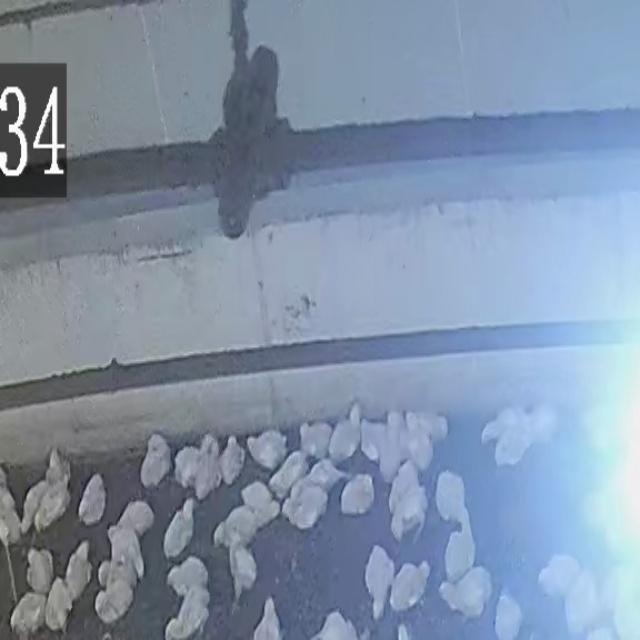chicken: (437, 564, 492, 620), (216, 503, 270, 552), (361, 543, 395, 620), (562, 567, 600, 633), (164, 587, 212, 639), (388, 558, 430, 614), (282, 483, 331, 531), (390, 486, 429, 544), (383, 411, 414, 482), (434, 470, 470, 531), (226, 538, 261, 600), (537, 552, 582, 599), (238, 479, 280, 529), (163, 499, 199, 556), (140, 432, 174, 491), (245, 428, 289, 472), (268, 451, 310, 497), (191, 436, 220, 501), (300, 455, 348, 494), (94, 580, 133, 627), (62, 540, 92, 601), (327, 410, 362, 462), (443, 527, 476, 582), (402, 411, 432, 471), (9, 591, 48, 636), (44, 576, 75, 632), (41, 478, 74, 530), (164, 559, 212, 594), (78, 471, 108, 526), (173, 444, 207, 492), (106, 528, 144, 570), (297, 420, 335, 462), (339, 474, 376, 517), (496, 422, 532, 466), (119, 498, 155, 540), (26, 546, 56, 595), (218, 434, 246, 486), (386, 462, 420, 503), (43, 440, 76, 482), (494, 592, 522, 640), (360, 418, 388, 464), (481, 410, 517, 444), (416, 406, 452, 438)
